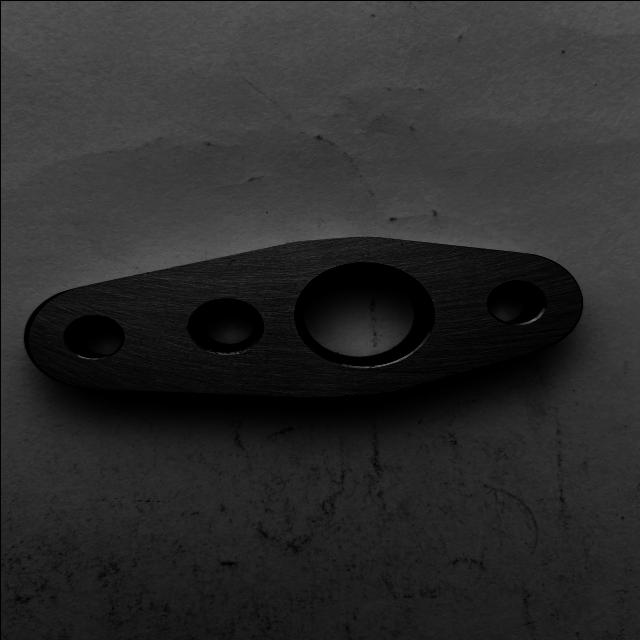chap: (238, 350, 249, 358)
